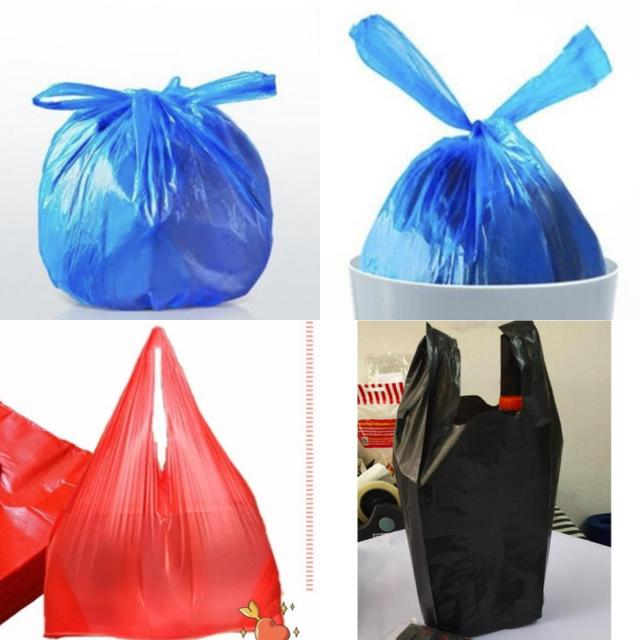Single-layer Plastic: (45, 326, 282, 639), (350, 15, 611, 285), (34, 71, 275, 310), (394, 321, 562, 636)
